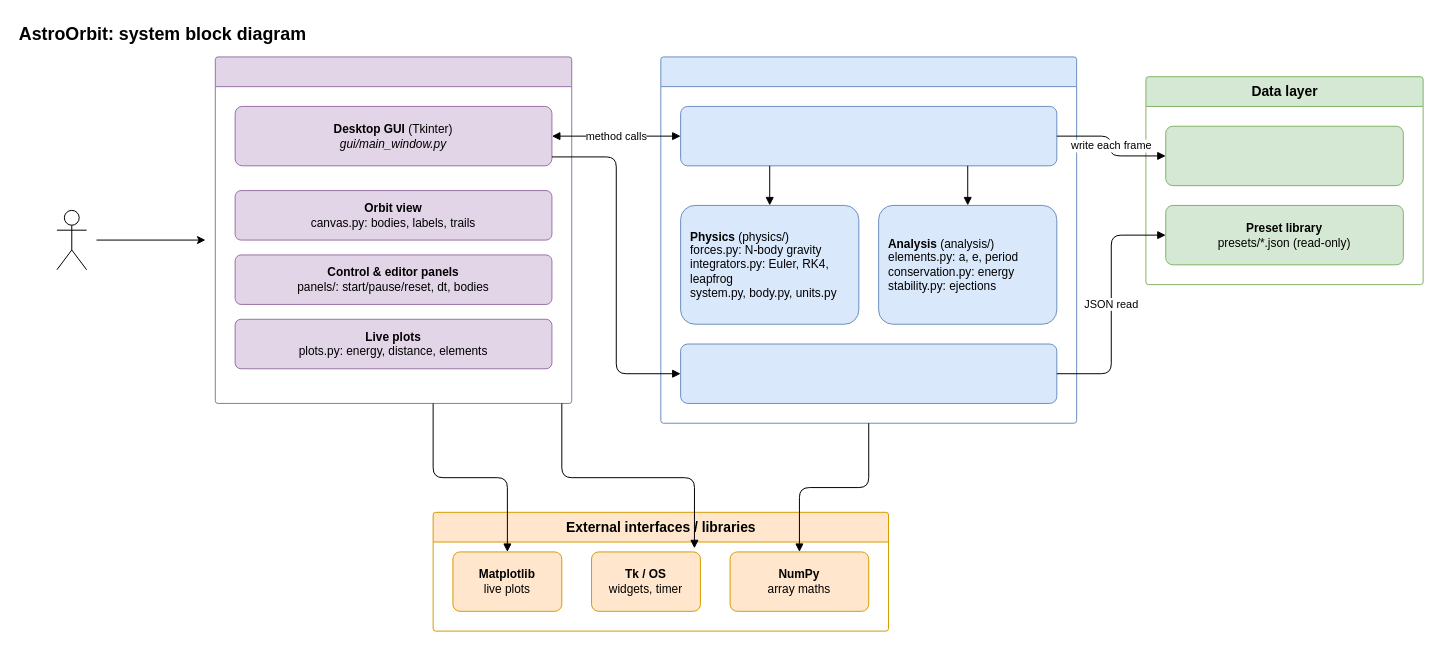
The diagram is 1440 pixels wide and 648 high, and some of its shapes have lost their labels. The box of each missing label's shape, as (x1, y1, x2, y2) in pixels:
Front-end layer: (214, 56, 572, 403)
Modes modes.py: planet / comet / chaos, units, plots, preset loading: (680, 343, 1057, 403)
Simulation engine simulation.py: clock, state, history: (680, 105, 1057, 166)
Simulation history in memory: t, positions, a, e, r, E: (1165, 125, 1403, 186)
Simulation layer: (660, 56, 1077, 423)
User: (56, 209, 87, 270)
